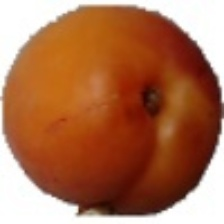apricot: (20, 16, 160, 215)
